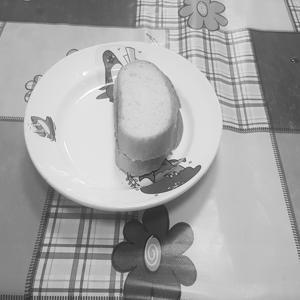bread: (103, 44, 186, 189)
